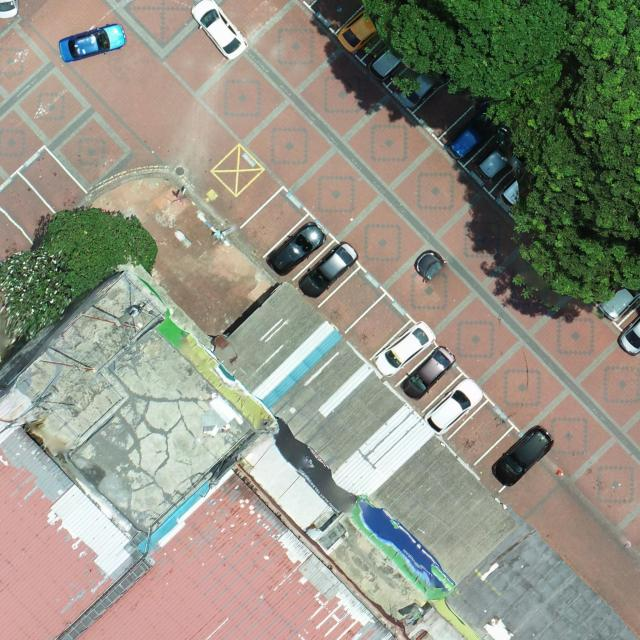Tree: (483, 0, 639, 304), (362, 0, 576, 102), (45, 207, 158, 302), (0, 245, 77, 344)
